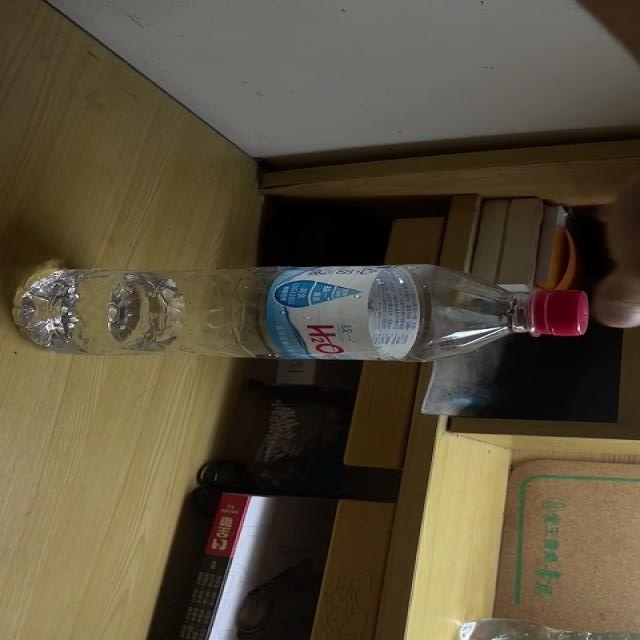Water: (16, 267, 589, 359)
